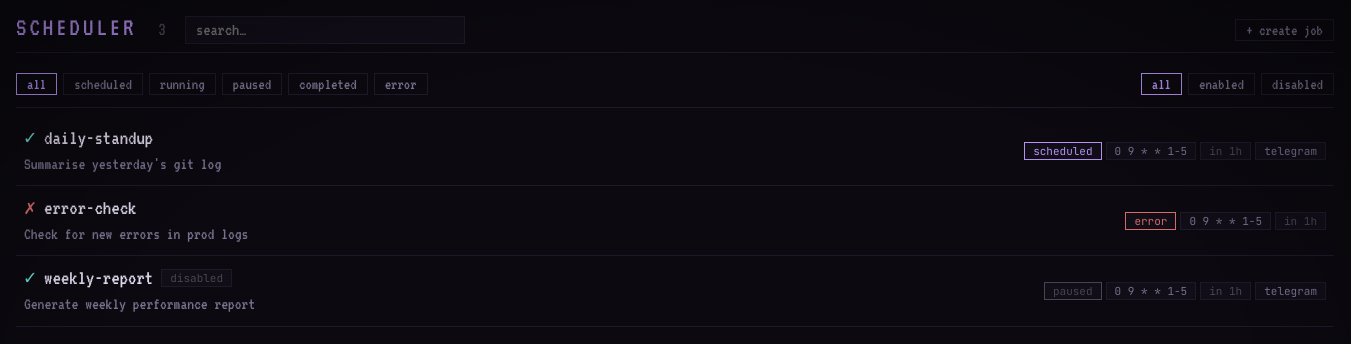
Test case: SchedulerView › state filter tabs › clicking error filter shows only error jobs
# The filter button is the first occurrence (state badge appears after)
Click the button "error" at (401, 84), box [374,73,428,95]
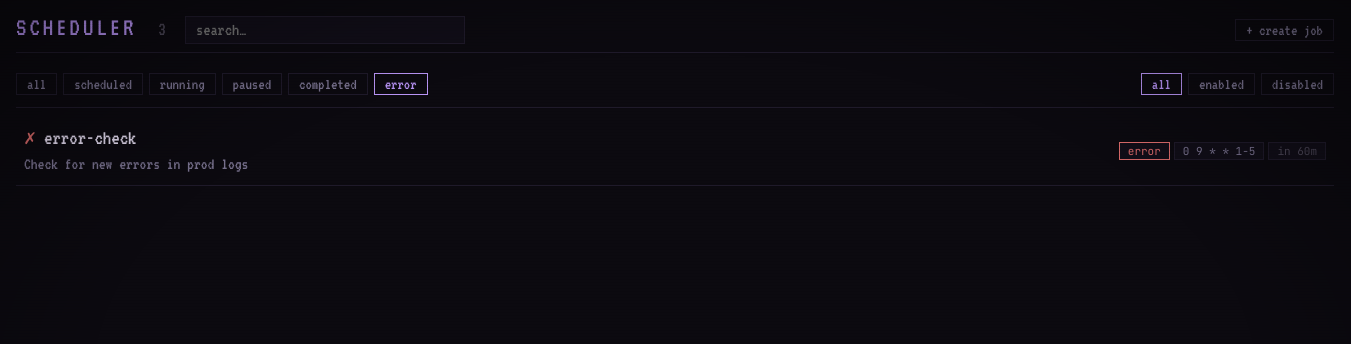
Expected: the text "error-check" is shown, [44,127,136,148]
Expected: the number of elements with class "dv-row-title" is 1, [24,127,136,148]
